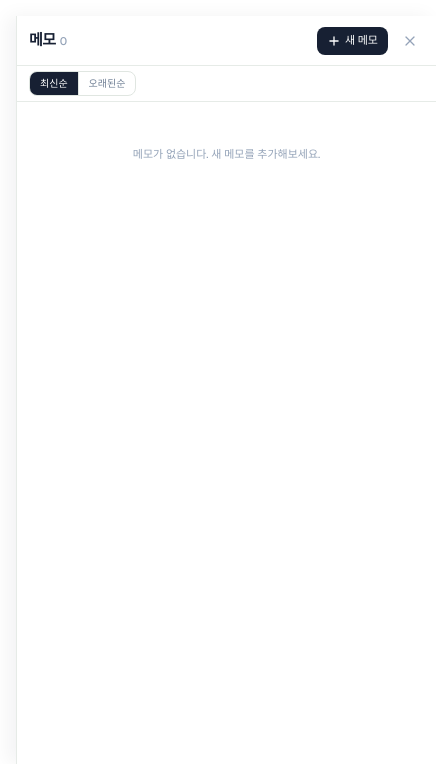
Test: MemoContainer › 오래된순을 선택하면 오래된순 목록을 표시한다
The image size is (436, 764).
Expected: the text "메모가 없습니다. 새 메모를 추가해보세요." is shown, [133, 147, 320, 161]
Click the button "오래된순" at (106,84), box [78, 72, 135, 95]
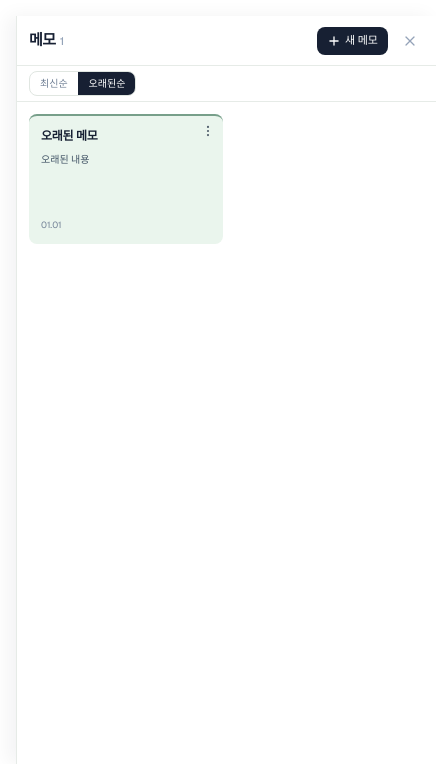
Expected: the heading "오래된 메모" is shown, [41, 128, 98, 144]
